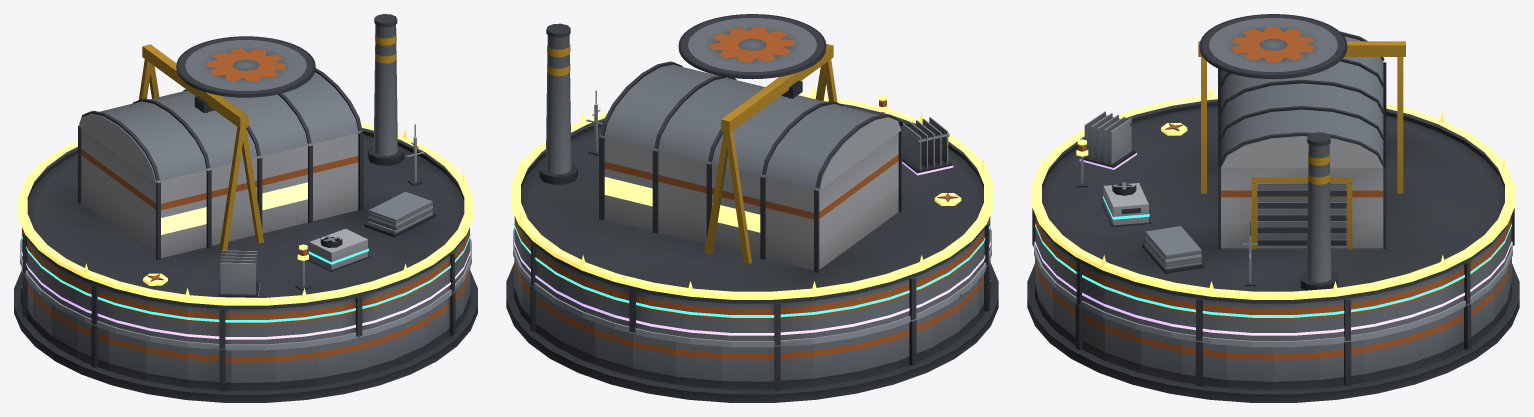
The model's file is fabricator_s_far.glb.
The picture shows the model from 3 angles, left to right: view 1: azimuth 30°, elevation 25°; view 2: azimuth 150°, elevation 25°; view 3: azimuth 270°, elevation 25°; orthographic projection. The views are drawn at different scales.
Visible parts, largest first — view 1: Roof, Base, L5, L2, L3, L4; view 2: Roof, Base, L5, L4, L2, L3; view 3: Roof, Base, L5, L4, L2, L3.
Part boxes in pixels (x1,y1,x2,y2): Roof: (22, 14, 469, 348); Base: (14, 267, 477, 402); L5: (18, 122, 473, 305); L2: (20, 124, 471, 350); L3: (21, 228, 470, 322); L4: (21, 250, 470, 339); Roof: (514, 14, 990, 345); Base: (506, 259, 998, 402); L5: (511, 85, 993, 299); L4: (514, 117, 990, 335); L2: (513, 90, 991, 347); L3: (514, 223, 990, 317); Roof: (1032, 14, 1514, 341); Base: (1027, 245, 1519, 402); L5: (1032, 85, 1514, 299); L4: (1035, 111, 1511, 335); L2: (1034, 222, 1512, 347); L3: (1035, 182, 1511, 317).
Bounding box in the file's own units: 12.95 × 7.38 × 12.95.
